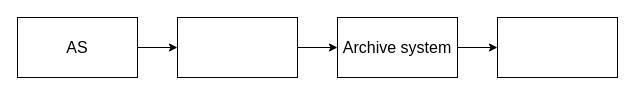
This 635x95 diagram has some shape labels left out. Each missing label, with the box of its shape:
DB: (496, 16, 618, 78)
DM: (176, 16, 298, 78)
